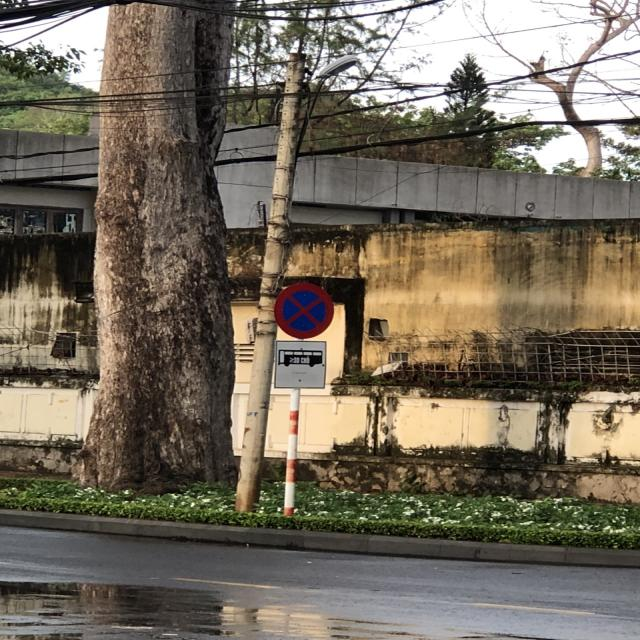Bien bao cam dung xe va do xe: (272, 279, 336, 337)
